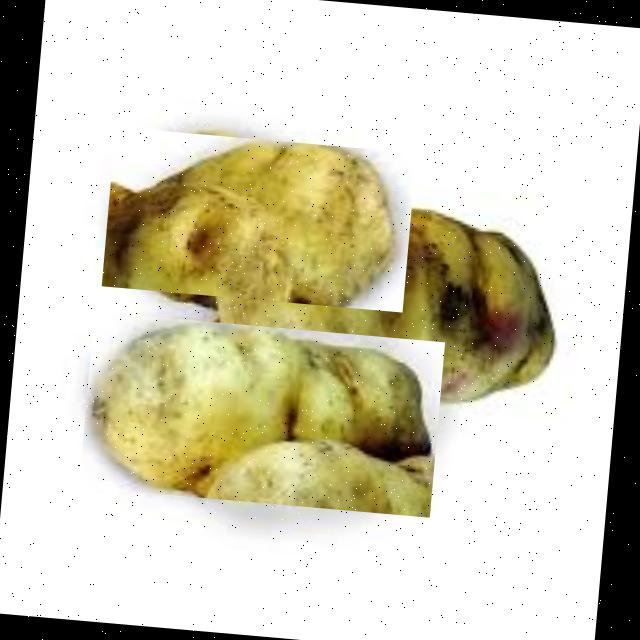Damaged potato: (199, 188, 571, 414), (78, 310, 444, 516), (101, 126, 416, 312)
